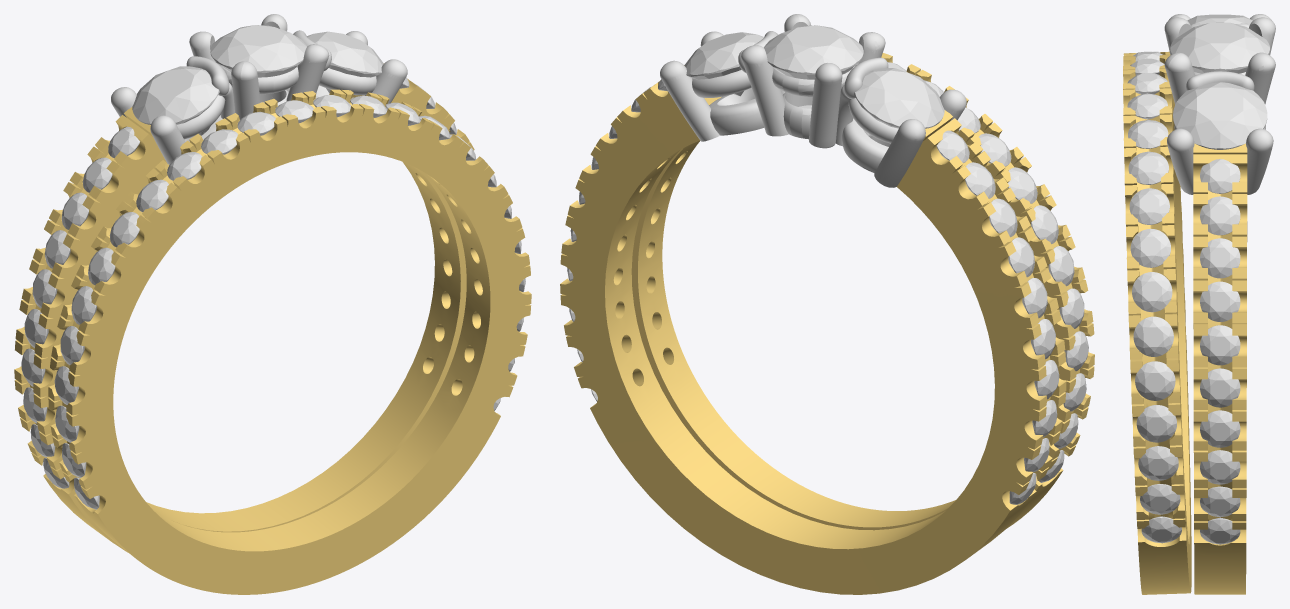
The model's file is LuBOTHyg_blender.glb.
3 views of the same model, side by side, from view 1: azimuth 30°, elevation 25°; view 2: azimuth 150°, elevation 25°; view 3: azimuth 270°, elevation 25° (orthographic). The views are drawn at different scales.
Parts seen in each view (by area): view 1: Lu YG both for 3d model, Lu PT both for 3d model, Lu dia both for 3d model.035, Lu dia both for 3d model.036, Lu dia both for 3d model.047, Lu dia both for 3d model.008, Lu dia both for 3d model.007, Lu dia both for 3d model.006, Lu dia both for 3d model.009, Lu dia both for 3d model.026, Lu dia both for 3d model.027, Lu dia both for 3d model.005 (+4 smaller); view 2: Lu YG both for 3d model, Lu PT both for 3d model, Lu dia both for 3d model.035, Lu dia both for 3d model.036, Lu dia both for 3d model.047, Lu dia both for 3d model.026, Lu dia both for 3d model.027, Lu dia both for 3d model.006, Lu dia both for 3d model.005, Lu dia both for 3d model.007, Lu dia both for 3d model.028, Lu dia both for 3d model.025 (+3 smaller); view 3: Lu YG both for 3d model, Lu PT both for 3d model, Lu dia both for 3d model.047, Lu dia both for 3d model.036, Lu dia both for 3d model.019, Lu dia both for 3d model.018, Lu dia both for 3d model.020, Lu dia both for 3d model.040, Lu dia both for 3d model.041, Lu dia both for 3d model.017, Lu dia both for 3d model.039, Lu dia both for 3d model.042 (+17 smaller).
Part boxes in pixels (left/top/right/bottom): Lu YG both for 3d model: left=14, top=78, right=531, bottom=594; Lu PT both for 3d model: left=111, top=14, right=407, bottom=164; Lu dia both for 3d model.035: left=132, top=66, right=219, bottom=124; Lu dia both for 3d model.036: left=210, top=25, right=306, bottom=77; Lu dia both for 3d model.047: left=306, top=31, right=383, bottom=93; Lu dia both for 3d model.008: left=136, top=179, right=168, bottom=212; Lu dia both for 3d model.007: left=109, top=212, right=139, bottom=247; Lu dia both for 3d model.006: left=88, top=247, right=115, bottom=285; Lu dia both for 3d model.009: left=167, top=152, right=202, bottom=180; Lu dia both for 3d model.026: left=82, top=157, right=112, bottom=192; Lu dia both for 3d model.027: left=61, top=192, right=89, bottom=229; Lu dia both for 3d model.005: left=71, top=286, right=96, bottom=324; Lu YG both for 3d model: left=560, top=53, right=1094, bottom=594; Lu PT both for 3d model: left=660, top=14, right=966, bottom=187; Lu dia both for 3d model.035: left=854, top=68, right=944, bottom=128; Lu dia both for 3d model.036: left=764, top=25, right=863, bottom=79; Lu dia both for 3d model.047: left=684, top=32, right=764, bottom=96; Lu dia both for 3d model.026: left=965, top=162, right=995, bottom=198; Lu dia both for 3d model.027: left=989, top=198, right=1017, bottom=237; Lu dia both for 3d model.006: left=1031, top=205, right=1058, bottom=243; Lu dia both for 3d model.005: left=1048, top=246, right=1074, bottom=286; Lu dia both for 3d model.007: left=1008, top=167, right=1037, bottom=203; Lu dia both for 3d model.028: left=1008, top=237, right=1034, bottom=277; Lu dia both for 3d model.025: left=936, top=130, right=969, bottom=162; Lu YG both for 3d model: left=1123, top=51, right=1247, bottom=594; Lu PT both for 3d model: left=1164, top=14, right=1275, bottom=194; Lu dia both for 3d model.047: left=1173, top=82, right=1267, bottom=149; Lu dia both for 3d model.036: left=1170, top=22, right=1269, bottom=73; Lu dia both for 3d model.019: left=1133, top=316, right=1173, bottom=356; Lu dia both for 3d model.018: left=1132, top=272, right=1172, bottom=312; Lu dia both for 3d model.020: left=1135, top=361, right=1175, bottom=400; Lu dia both for 3d model.040: left=1200, top=281, right=1240, bottom=321; Lu dia both for 3d model.041: left=1200, top=325, right=1240, bottom=365; Lu dia both for 3d model.017: left=1130, top=228, right=1170, bottom=267; Lu dia both for 3d model.039: left=1200, top=238, right=1240, bottom=278; Lu dia both for 3d model.042: left=1200, top=368, right=1240, bottom=407.
Size of the model in its own units: 20.37 by 21.95 by 5.67.
